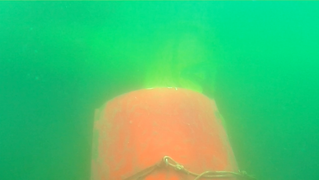4: (184, 57, 215, 99)
leak: (90, 86, 241, 180)
pipe: (1, 19, 149, 77), (145, 14, 214, 100)
